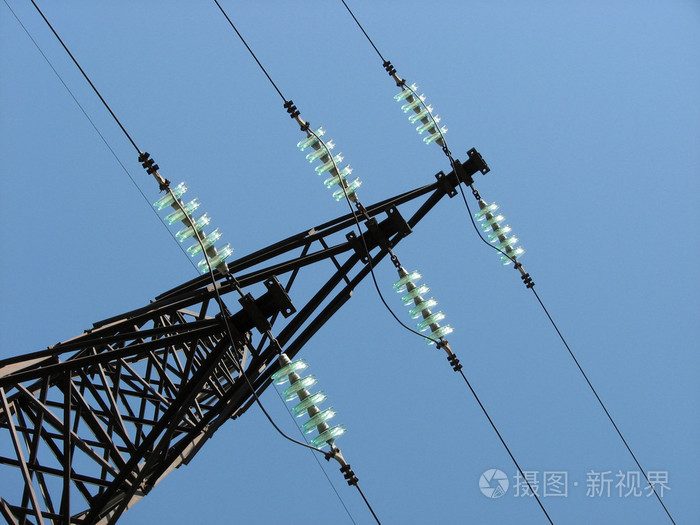insulator: (154, 181, 234, 275), (273, 359, 345, 447), (297, 128, 362, 202), (393, 269, 453, 344), (394, 84, 451, 143), (474, 201, 526, 264)
